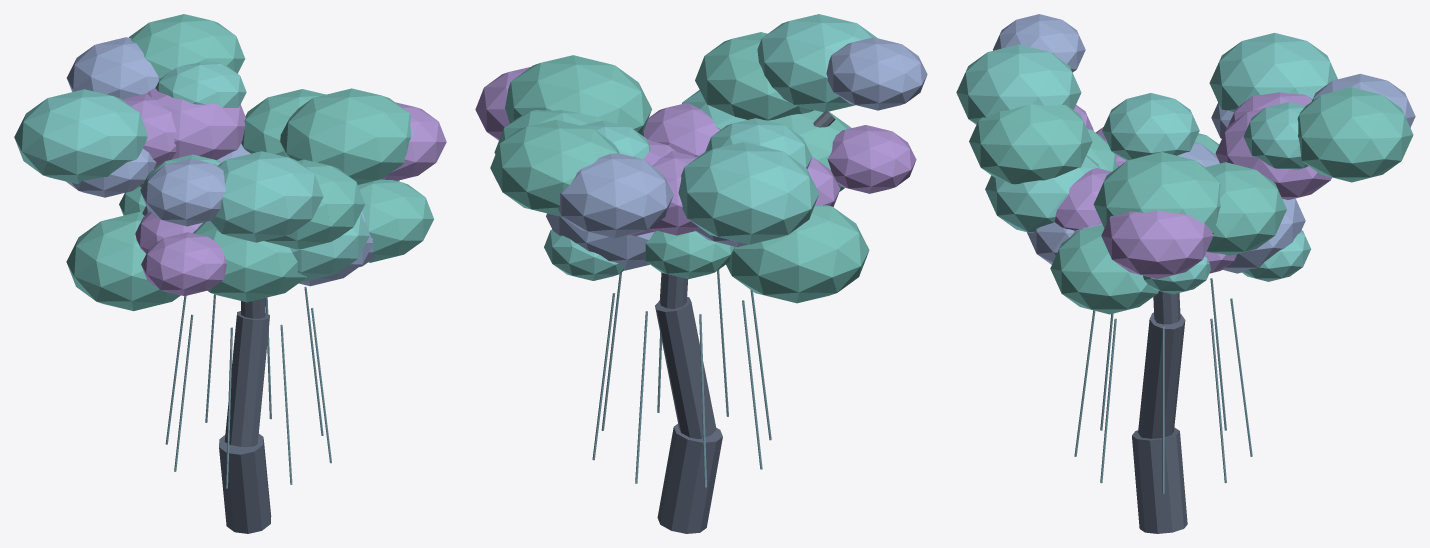
The model's file is hexcore_living_tree_04.glb.
3 views of the same model, side by side, from view 1: azimuth 30°, elevation 25°; view 2: azimuth 150°, elevation 25°; view 3: azimuth 270°, elevation 25° (orthographic). The views are drawn at different scales.
Visible parts, largest first — view 1: world; view 2: world; view 3: world.
Part boxes in pixels (left/top/right/bottom): world: left=14, top=14, right=446, bottom=533; world: left=475, top=14, right=927, bottom=533; world: left=956, top=14, right=1415, bottom=533.
Bounding box in the file's own units: 22.36 × 25.58 × 23.74.
